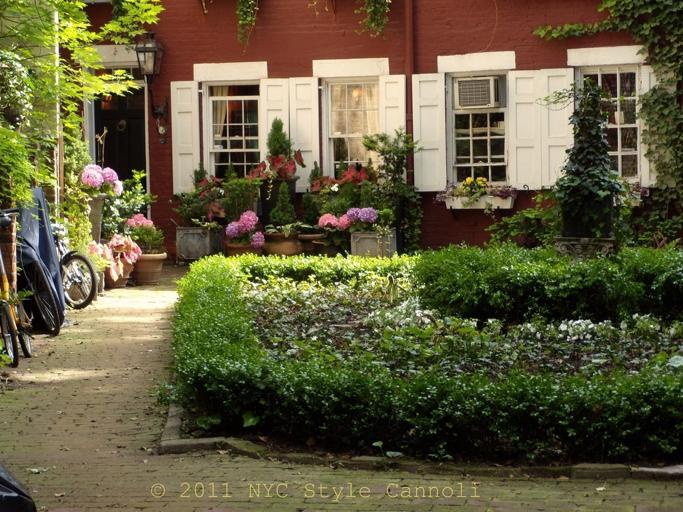non-vehicle: (13, 187, 71, 338), (44, 199, 99, 311), (0, 207, 33, 370)
